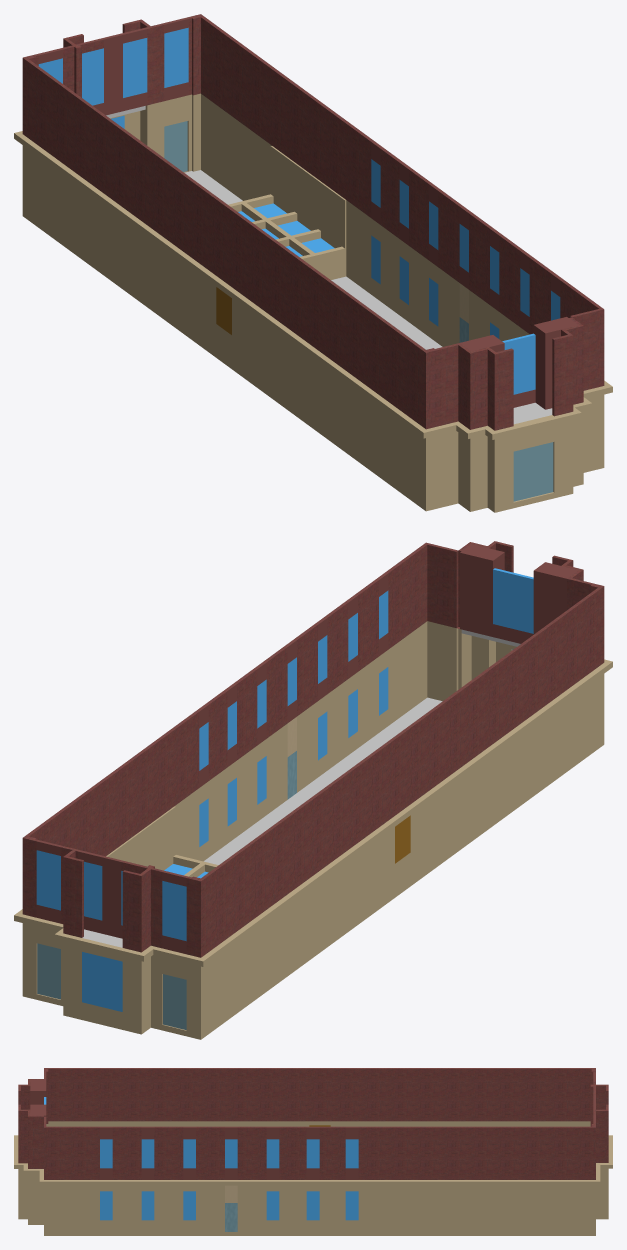
Rendered from pump_house_expansion.glb.
The picture shows the model from 3 angles, top to bottom: view 1: azimuth 30°, elevation 25°; view 2: azimuth 150°, elevation 25°; view 3: azimuth 270°, elevation 25°; orthographic projection. The views are drawn at different scales.
Parts seen in each view (by area): view 1: Floor1; view 2: Floor1; view 3: Floor1.
Boxes of the visible parts, box(x1,y1,x2,y2) form: Floor1: box(14, 14, 612, 512); Floor1: box(14, 541, 612, 1039); Floor1: box(14, 1068, 612, 1235).
Bounding box in the file's own units: 14 × 11.2 × 56.1.
7 materials, 6 textured.
